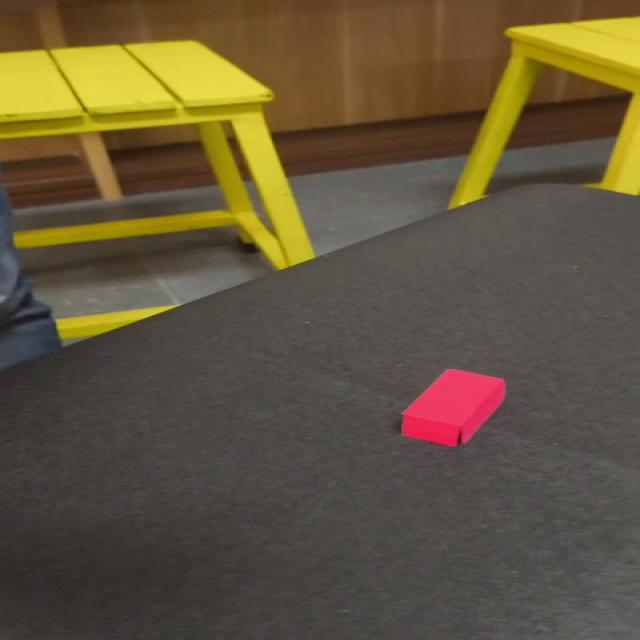red block: (398, 368, 506, 448)
